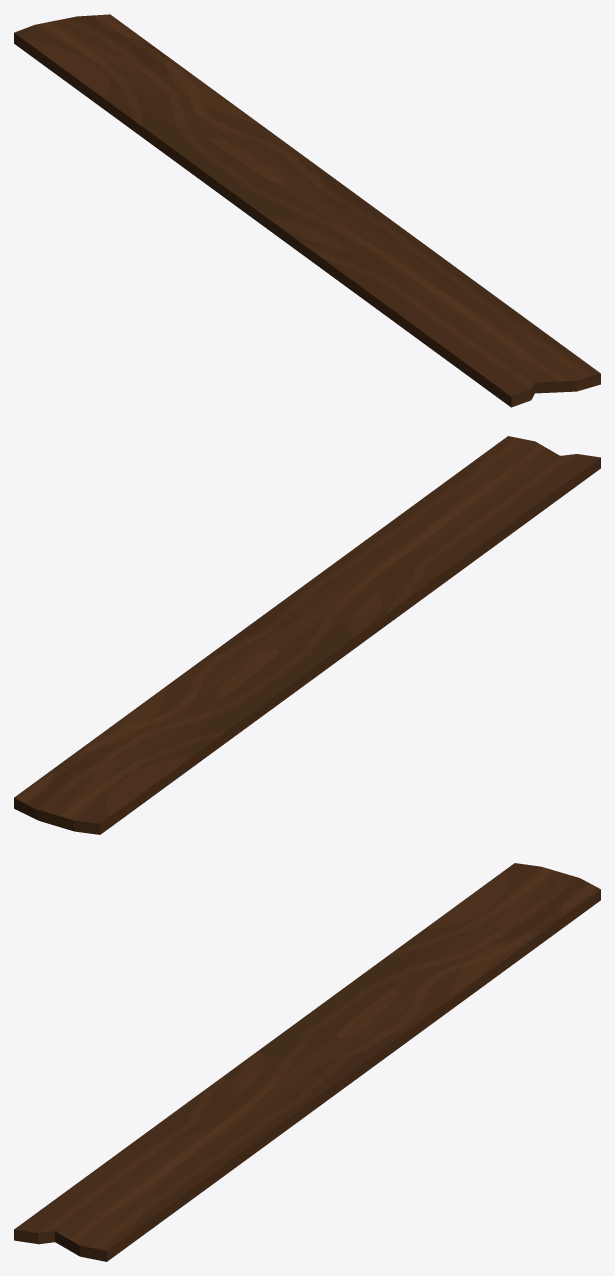
Rendered from FloorBoard-5.fbx.
3 views of the same model, one above another, from view 1: azimuth 30°, elevation 25°; view 2: azimuth 150°, elevation 25°; view 3: azimuth 330°, elevation 25° (orthographic).
Parts seen in each view (by area): view 1: FloorBoard-5; view 2: FloorBoard-5; view 3: FloorBoard-5.
Boxes of the visible parts, x1,y1,x2,y2 form: FloorBoard-5: (14,14,600,407); FloorBoard-5: (14,436,600,834); FloorBoard-5: (14,863,600,1261).
Size of the model in its own units: 200 by 22.92 by 1904.
Materials: 1 (1 with a texture image).
